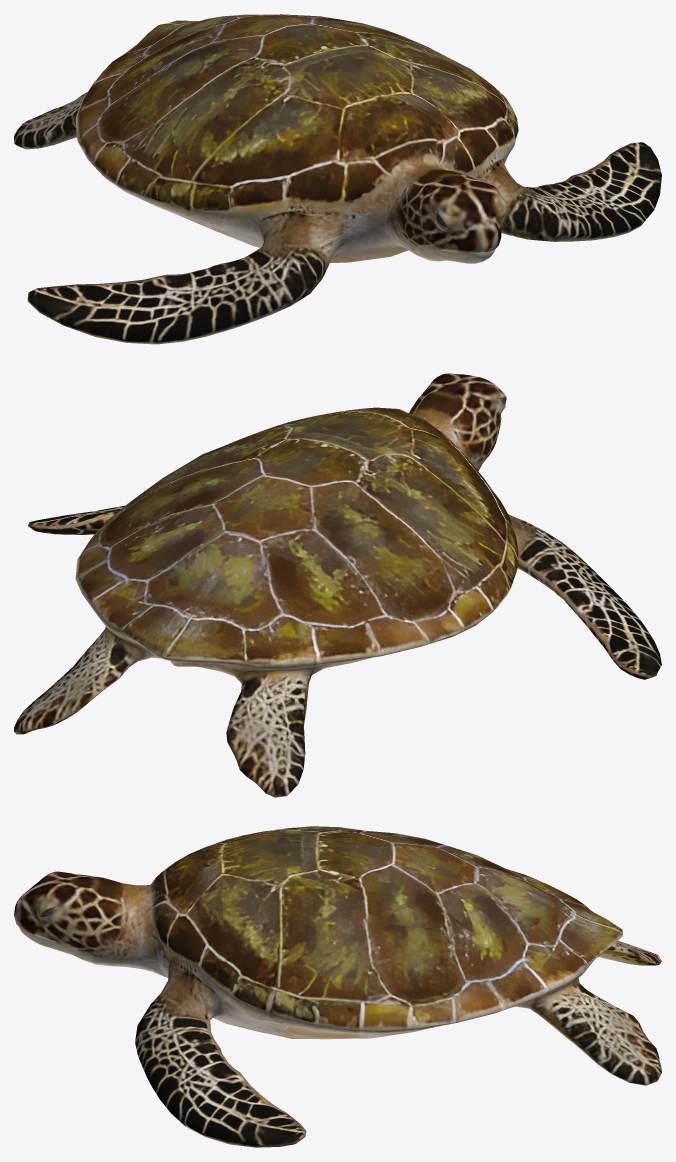
3 views of the same model, one above another, from view 1: azimuth 30°, elevation 25°; view 2: azimuth 150°, elevation 25°; view 3: azimuth 270°, elevation 25° (orthographic). The views are drawn at different scales.
Parts seen in each view (by area): view 1: sm_1_0_0_0; view 2: sm_1_0_0_0; view 3: sm_1_0_0_0.
Boxes of the visible parts, bbox=[...] form: sm_1_0_0_0: bbox=[14, 14, 661, 344]; sm_1_0_0_0: bbox=[14, 373, 661, 797]; sm_1_0_0_0: bbox=[14, 826, 661, 1147].
Bounding box in the file's own units: 1.55 × 0.457 × 1.5.
Materials: 1 (1 with a texture image).
